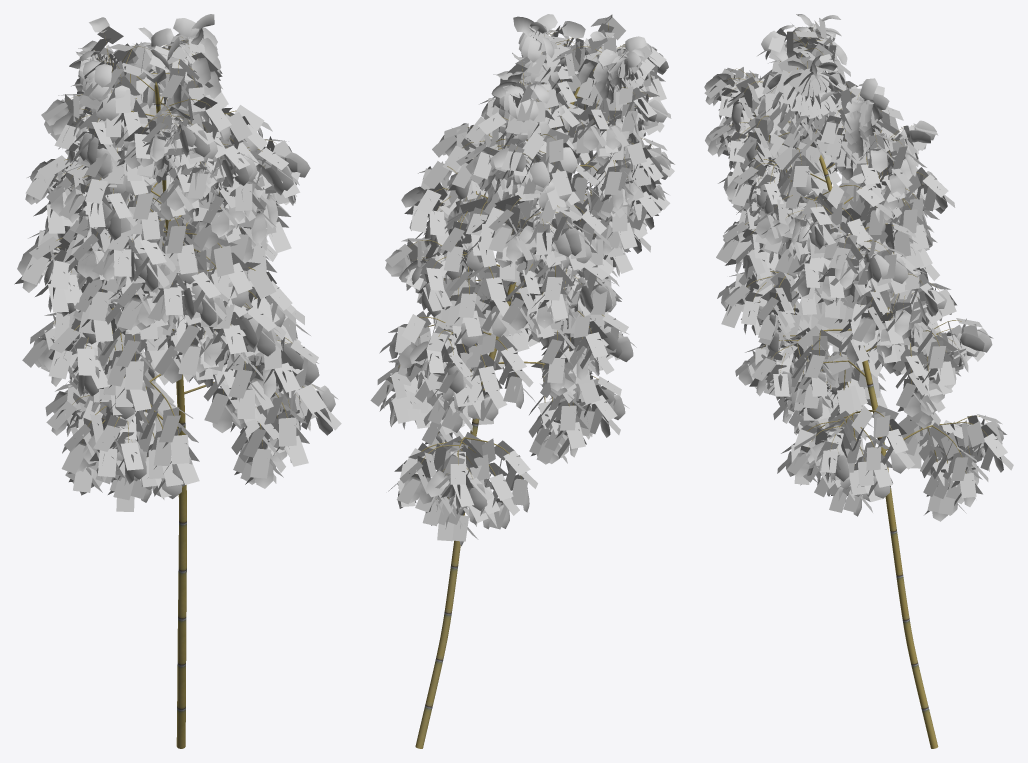
Rendered from FBX_JA14_PhyllostachysNigraHenonis_1.fbx.
The picture shows the model from 3 angles, left to right: view 1: azimuth 30°, elevation 25°; view 2: azimuth 150°, elevation 25°; view 3: azimuth 270°, elevation 25°; orthographic projection. The views are drawn at different scales.
Visible parts, largest first — view 1: Leaf01_1, Bark01_1, Branch01_1; view 2: Leaf01_1, Bark01_1, Branch01_1; view 3: Leaf01_1, Bark01_1, Branch01_1.
Boxes of the visible parts, <box> form: Leaf01_1: <box>14,14,341,511</box>; Bark01_1: <box>155,82,186,748</box>; Branch01_1: <box>51,37,315,448</box>; Leaf01_1: <box>370,14,674,546</box>; Bark01_1: <box>415,87,579,748</box>; Branch01_1: <box>391,23,653,499</box>; Leaf01_1: <box>704,14,1013,521</box>; Bark01_1: <box>819,154,938,748</box>; Branch01_1: <box>728,27,987,473</box>.
Size of the model in its own units: 195 by 503 by 209.
